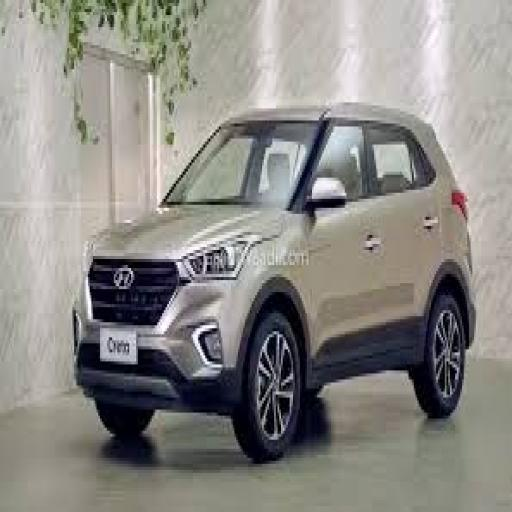car: (62, 84, 496, 500)
